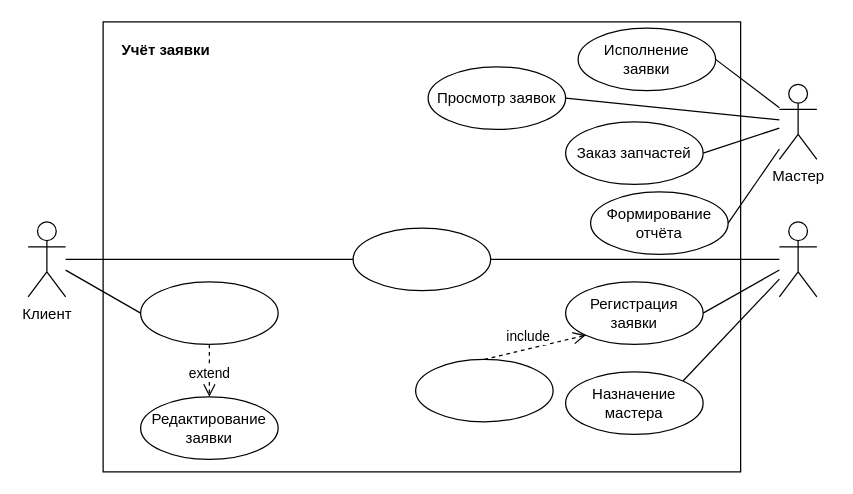
Image size: 853x494. Some labels were removed from this diagram. The shapes that lost their labels are listed below. From the top down, each one's centre as x and y in pixels, then its label:
(x=421, y=259): Авторизация
(x=797, y=259): Оператор
(x=208, y=312): Создание заявки
(x=483, y=390): Обработка заявки
